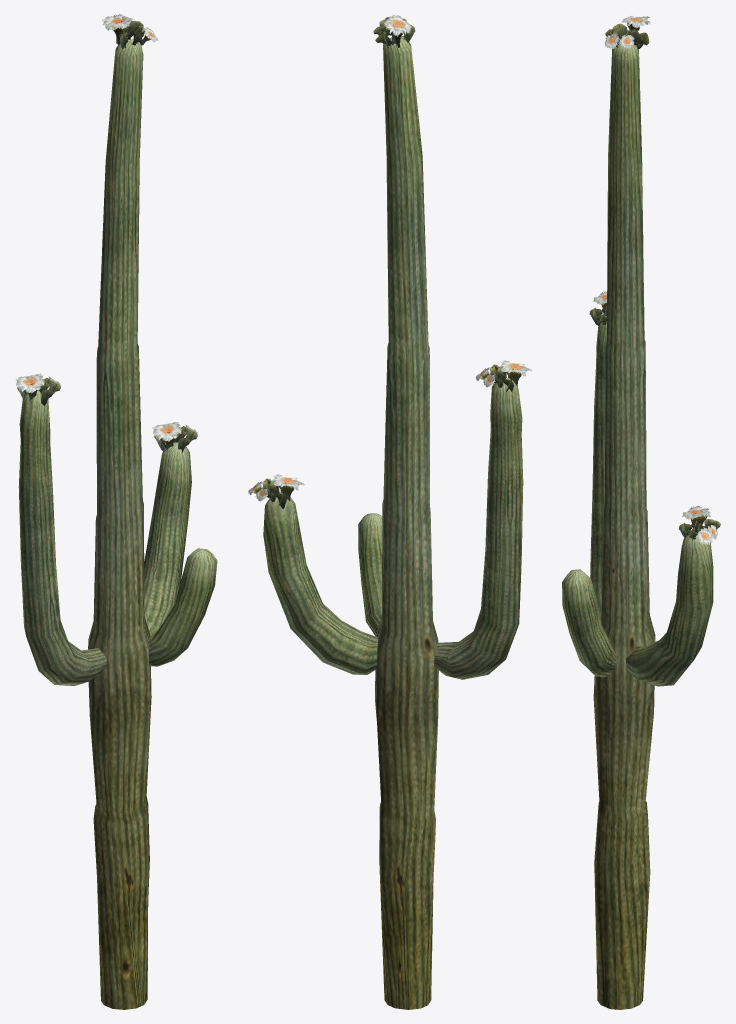
File: DesertPlant01_FlowerA.FBX
3 views of the same model, side by side, from view 1: azimuth 30°, elevation 25°; view 2: azimuth 150°, elevation 25°; view 3: azimuth 270°, elevation 25° (orthographic).
Visible parts, largest first — view 1: DesertPlant01_FlowerA; view 2: DesertPlant01_FlowerA; view 3: DesertPlant01_FlowerA.
Boxes of the visible parts, <box> form: DesertPlant01_FlowerA: <box>16,14,217,1009</box>; DesertPlant01_FlowerA: <box>248,15,531,1009</box>; DesertPlant01_FlowerA: <box>562,15,720,1009</box>.
Size of the model in its own units: 9.68 by 38.87 by 5.72.
Materials: 2 (2 with a texture image).
